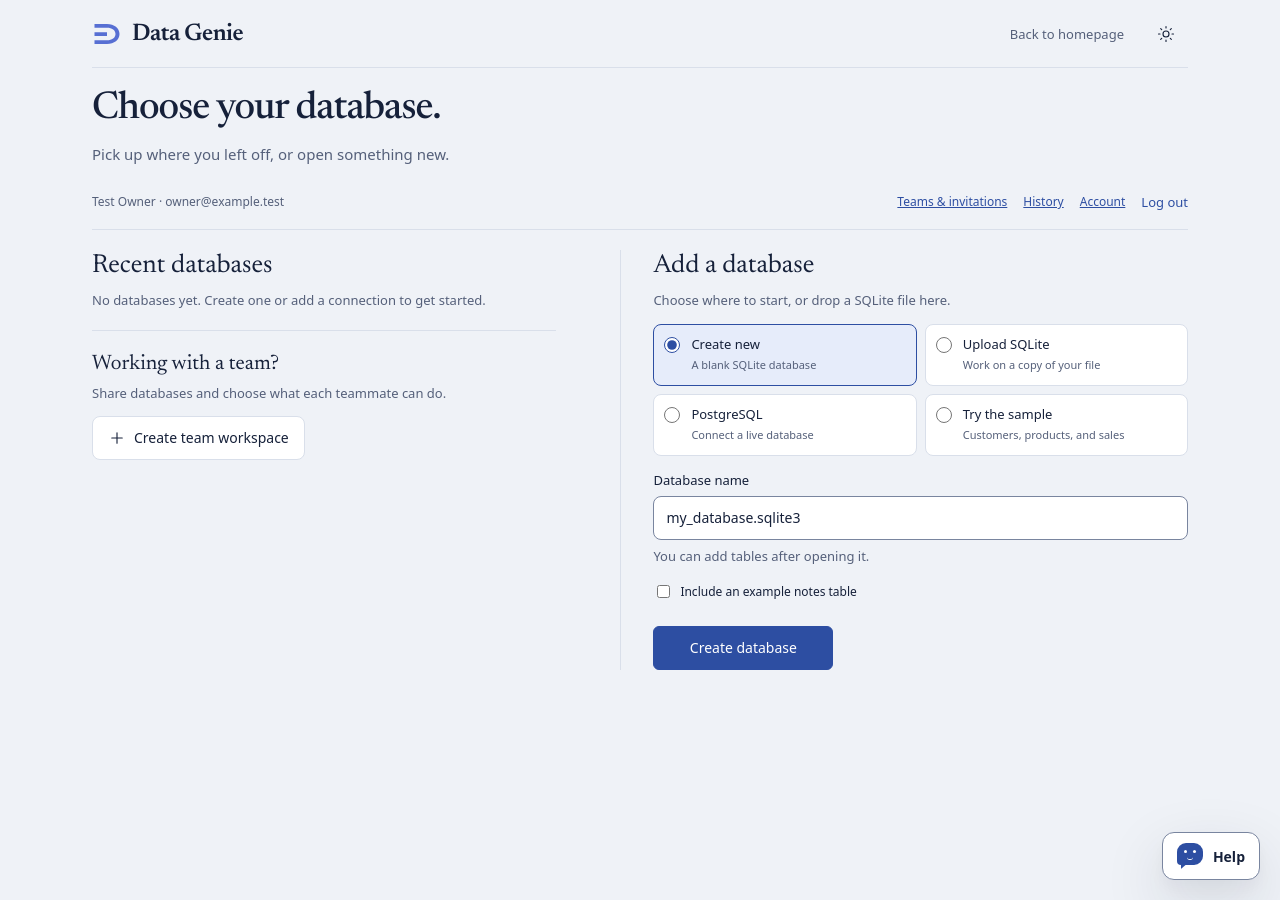
keeps failed creation and cancel on the database chooser
Click the button "Create team workspace" at point(198, 438), box [92, 416, 305, 460]
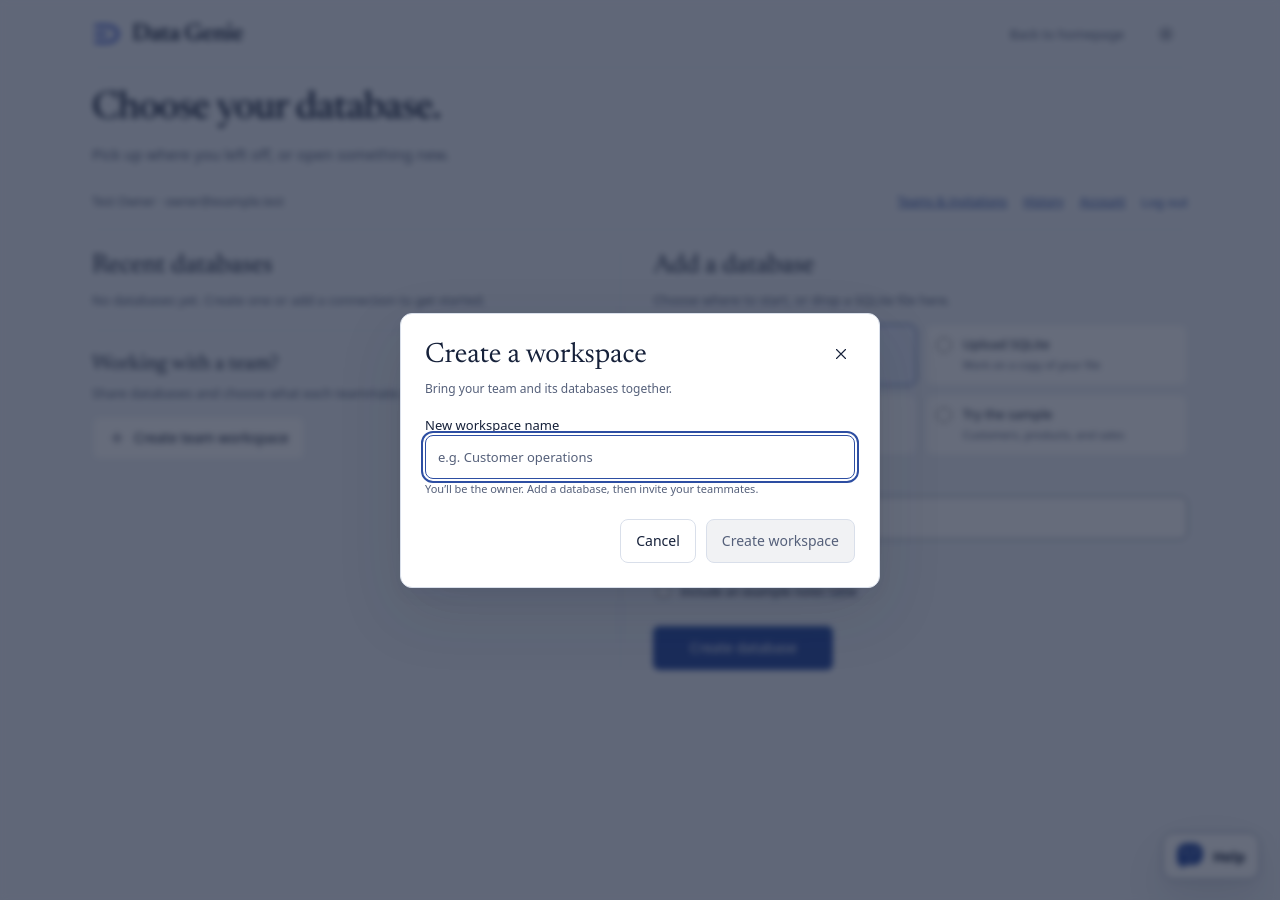
Type "Studio team" into the field at point(640, 456), box [425, 434, 855, 478]
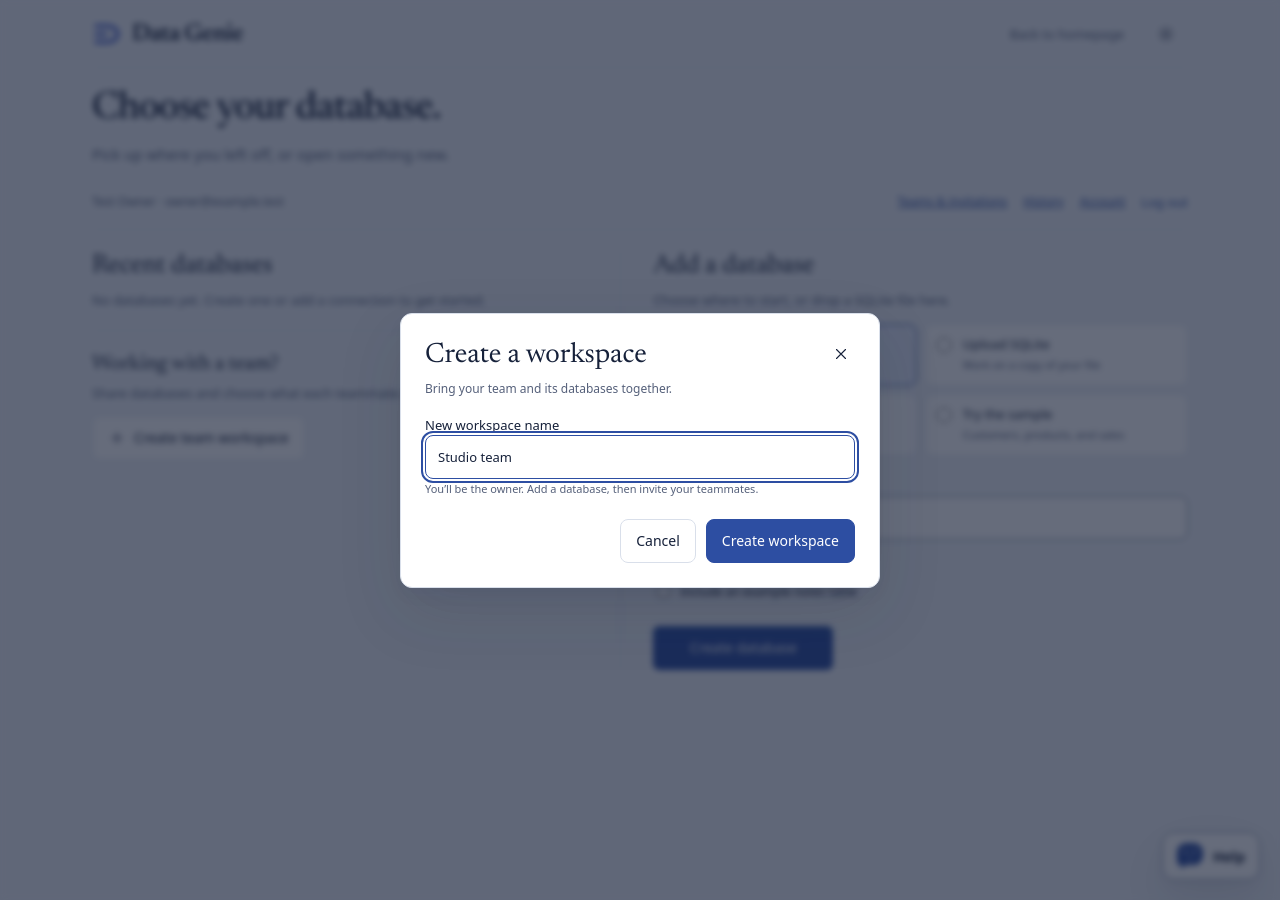
Click the button "Create workspace" at point(780, 540), box [706, 518, 855, 562]
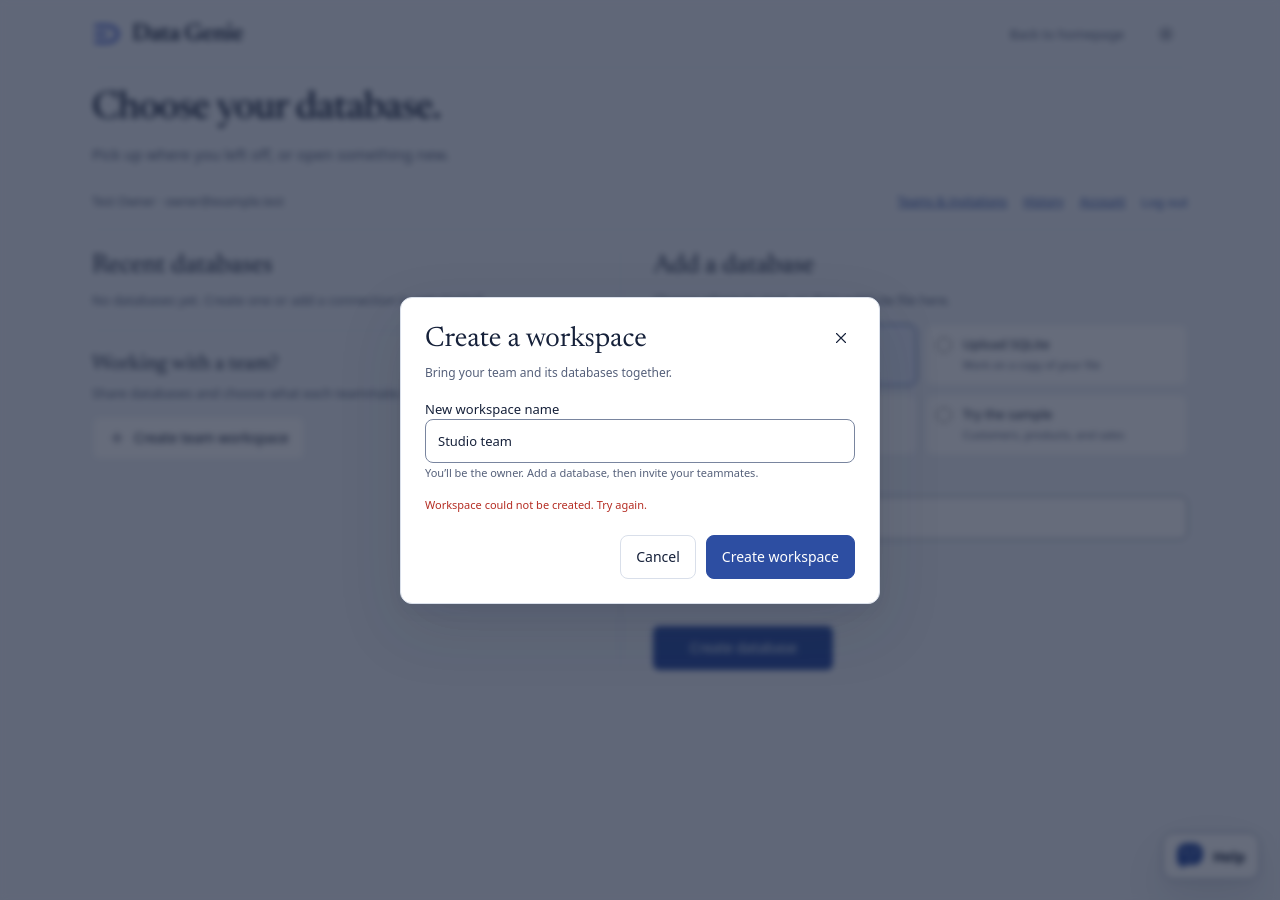
Expected: the message "Workspace could not be created. Try again." is shown, [425, 496, 647, 512]
Click the button "Cancel" at point(658, 556), box [620, 534, 696, 578]
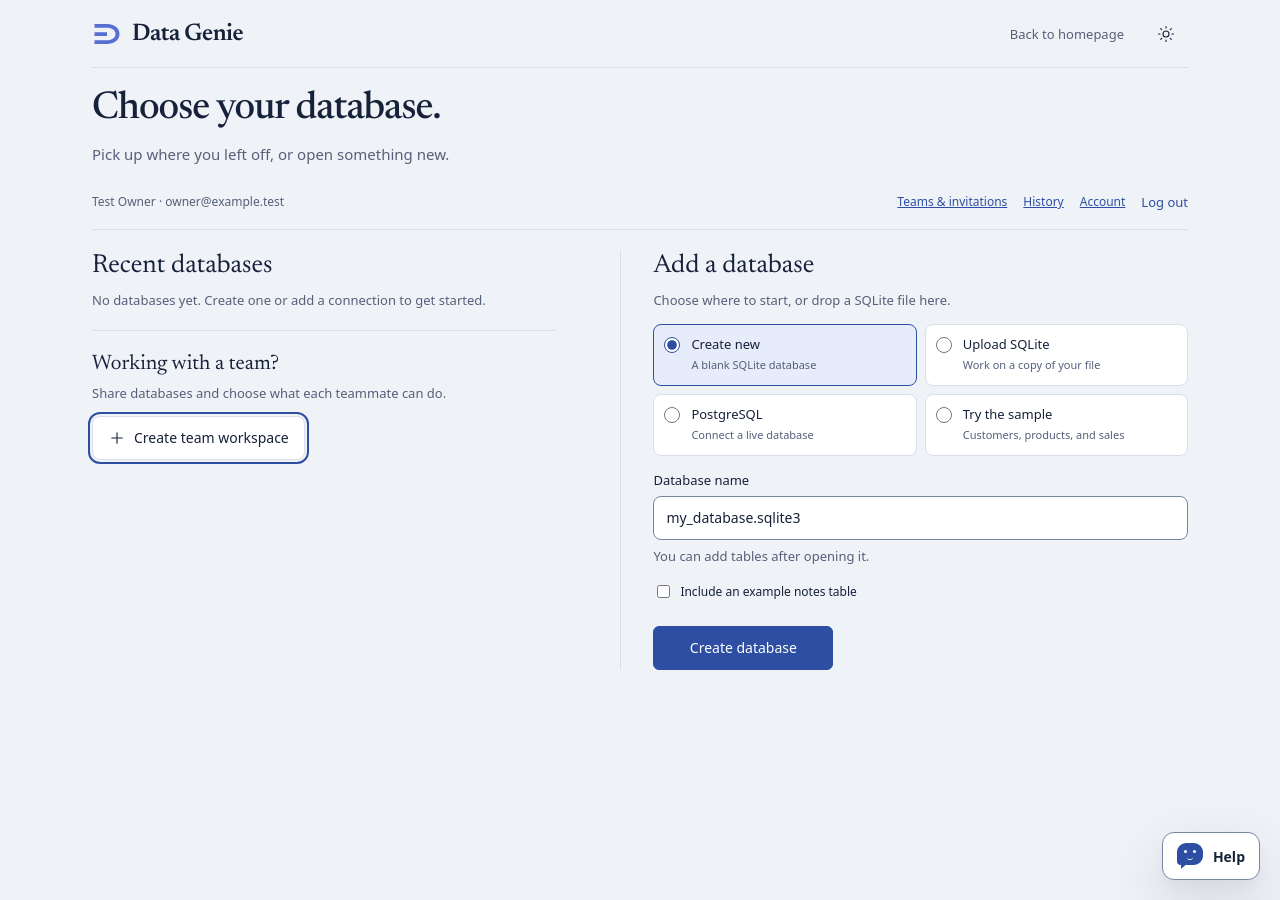
Expected: the dialog is gone
